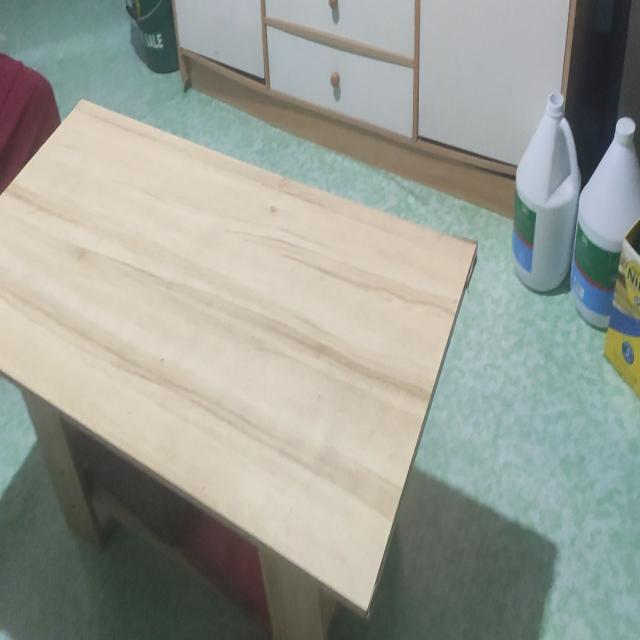table: (0, 93, 473, 640)
